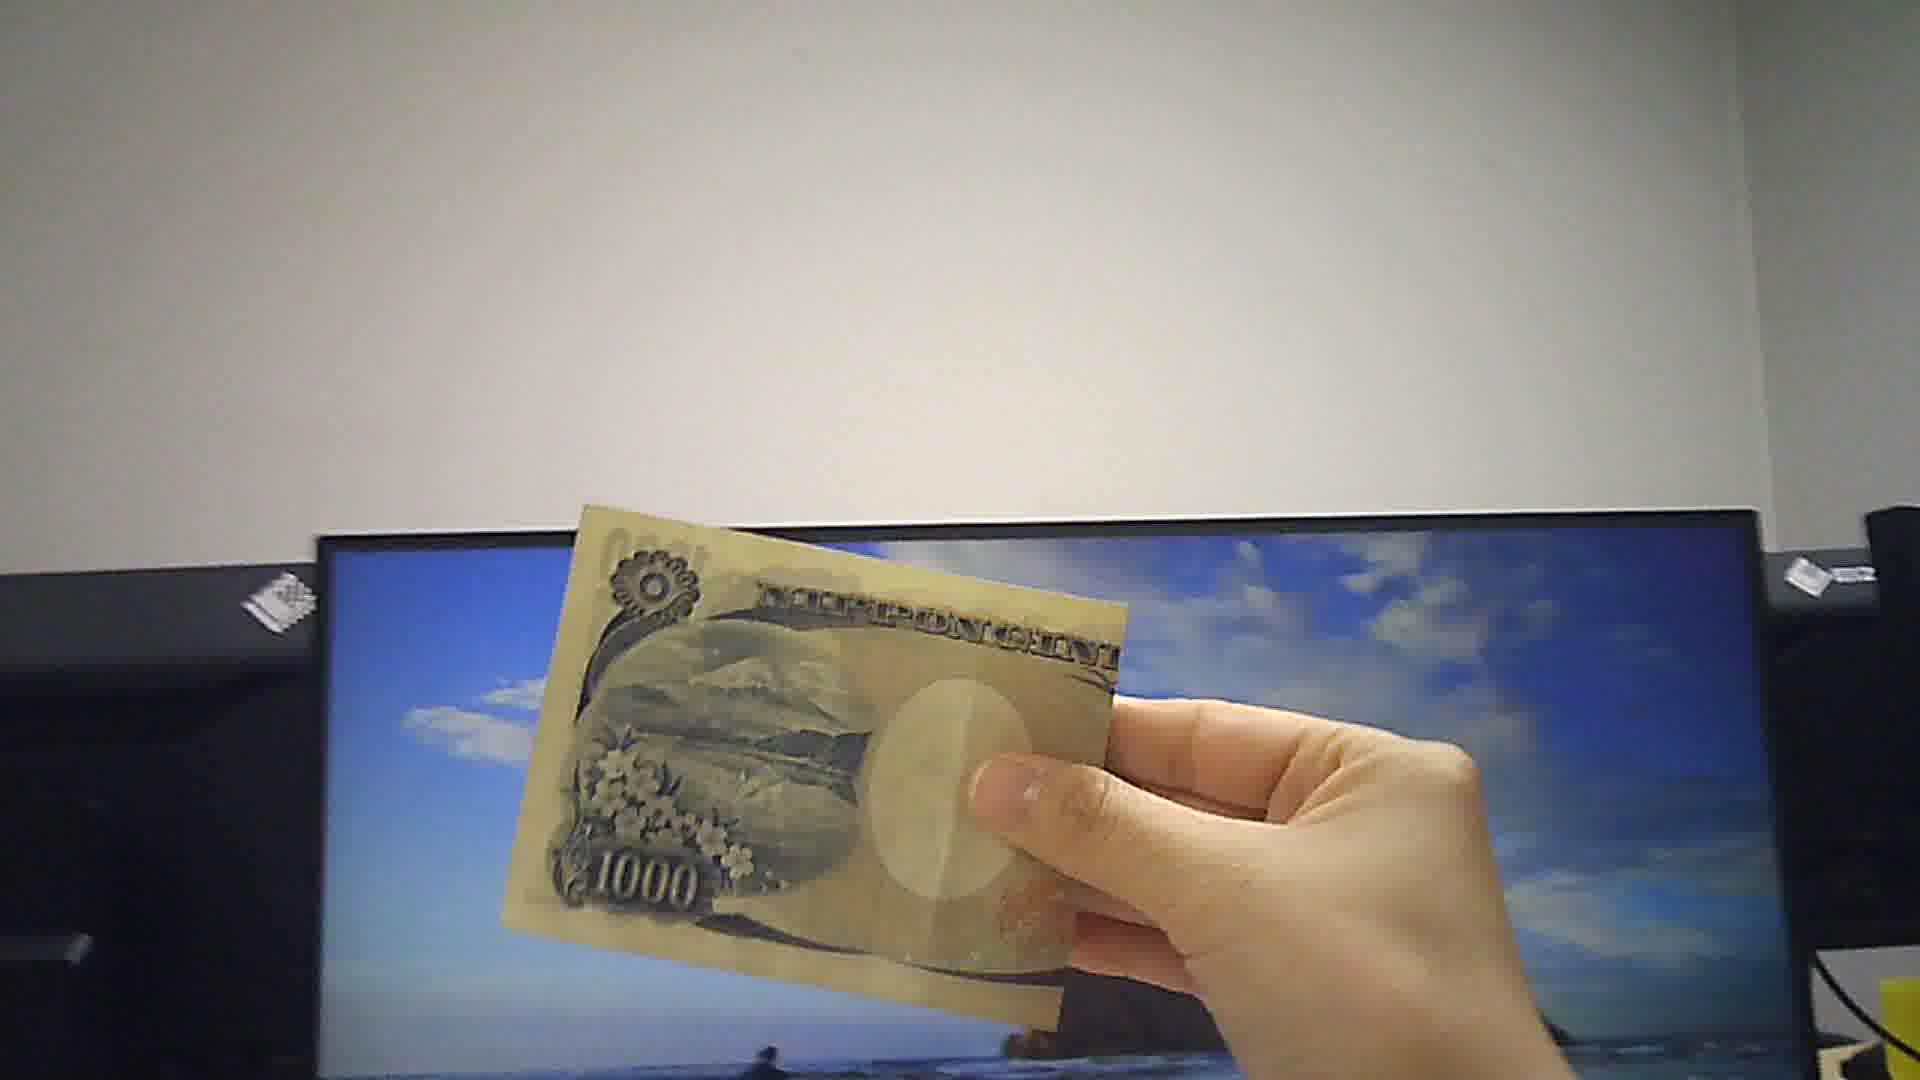1,000 Yen: (512, 487, 1131, 1042)
